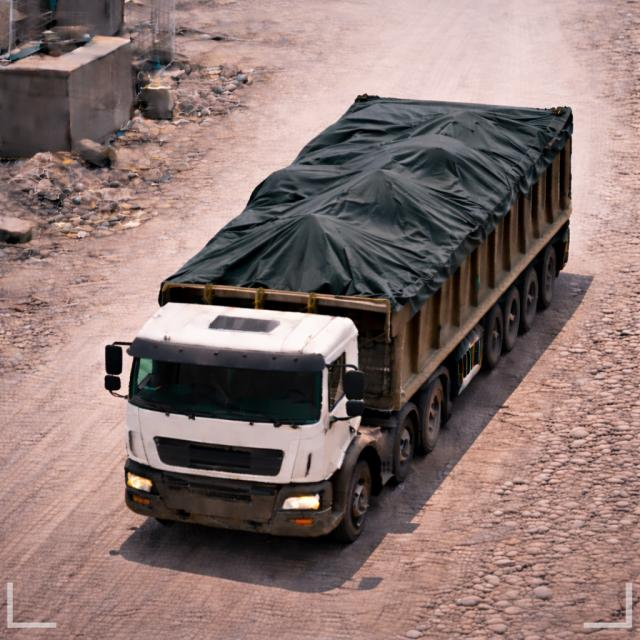trailer: (162, 93, 569, 298)
truck: (99, 85, 574, 537)
